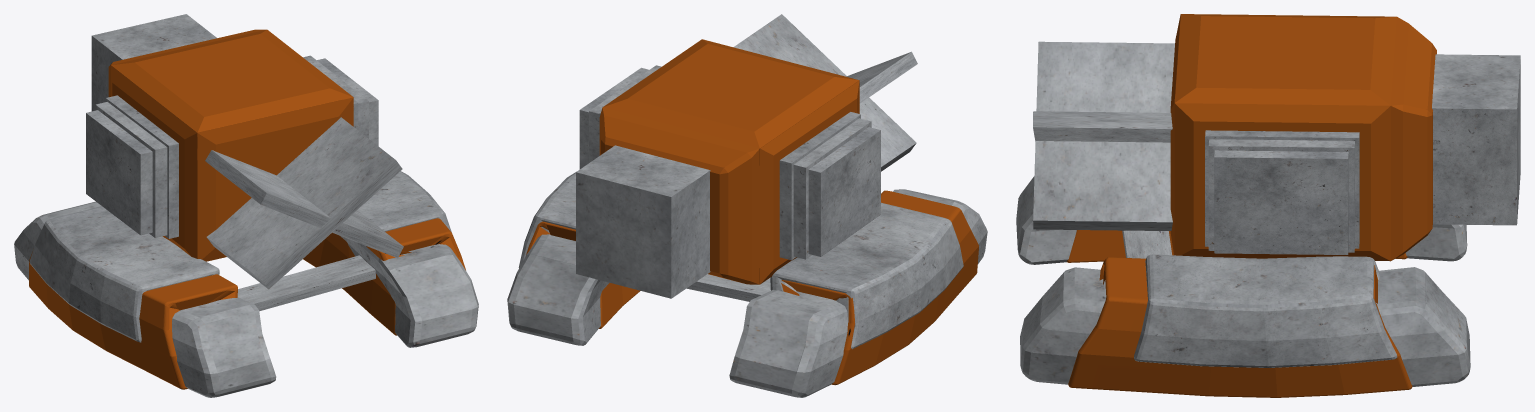
Rendered from 天启坦克.fbx.
3 renders of one model, left to right at view 1: azimuth 30°, elevation 25°; view 2: azimuth 150°, elevation 25°; view 3: azimuth 270°, elevation 25°, orthographic. The views are drawn at different scales.
Visible parts, largest first — view 1: Apocalypse_body_Baked, Apocalypse_cannon_Baked, Apocalypse_Caterpillar track_Baked, Apocalypse_Crawler housing2_Baked, Apocalypse_Crawler housing1_Baked, Apocalypse_right_Baked, Apocalypse_back_Baked, Apocalypse_Base plate_Baked, Apocalypse_left_Baked; view 2: Apocalypse_body_Baked, Apocalypse_Caterpillar track_Baked, Apocalypse_back_Baked, Apocalypse_Crawler housing2_Baked, Apocalypse_right_Baked, Apocalypse_Crawler housing1_Baked, Apocalypse_cannon_Baked, Apocalypse_left_Baked, Apocalypse_Base plate_Baked; view 3: Apocalypse_body_Baked, Apocalypse_Crawler housing2_Baked, Apocalypse_cannon_Baked, Apocalypse_Caterpillar track_Baked, Apocalypse_left_Baked, Apocalypse_Crawler housing1_Baked, Apocalypse_back_Baked, Apocalypse_Base plate_Baked.
Boxes of the visible parts, left/top/right/bottom form: Apocalypse_body_Baked: left=108, top=29, right=353, bottom=261; Apocalypse_cannon_Baked: left=205, top=117, right=403, bottom=289; Apocalypse_Caterpillar track_Baked: left=14, top=201, right=478, bottom=397; Apocalypse_Crawler housing2_Baked: left=29, top=171, right=451, bottom=342; Apocalypse_Crawler housing1_Baked: left=29, top=218, right=465, bottom=389; Apocalypse_right_Baked: left=86, top=95, right=178, bottom=238; Apocalypse_back_Baked: left=91, top=14, right=216, bottom=111; Apocalypse_Base plate_Baked: left=237, top=255, right=375, bottom=311; Apocalypse_left_Baked: left=303, top=55, right=378, bottom=145; Apocalypse_body_Baked: left=599, top=39, right=859, bottom=284; Apocalypse_Caterpillar track_Baked: left=507, top=189, right=987, bottom=397; Apocalypse_back_Baked: left=576, top=145, right=710, bottom=298; Apocalypse_Crawler housing2_Baked: left=518, top=171, right=963, bottom=349; Apocalypse_right_Baked: left=779, top=112, right=880, bottom=260; Apocalypse_Crawler housing1_Baked: left=526, top=190, right=978, bottom=385; Apocalypse_cannon_Baked: left=733, top=14, right=917, bottom=171; Apocalypse_left_Baked: left=579, top=65, right=661, bottom=169; Apocalypse_Base plate_Baked: left=686, top=274, right=770, bottom=301; Apocalypse_body_Baked: left=1170, top=14, right=1436, bottom=261; Apocalypse_Crawler housing2_Baked: left=1134, top=254, right=1397, bottom=367; Apocalypse_cannon_Baked: left=1033, top=41, right=1174, bottom=230; Apocalypse_Caterpillar track_Baked: left=1016, top=176, right=1470, bottom=386; Apocalypse_left_Baked: left=1205, top=130, right=1359, bottom=254; Apocalypse_Crawler housing1_Baked: left=1066, top=230, right=1412, bottom=397; Apocalypse_back_Baked: left=1432, top=54, right=1520, bottom=225; Apocalypse_Base plate_Baked: left=1122, top=230, right=1171, bottom=258.
Bounding box in the file's own units: 140 × 82.35 × 149.
